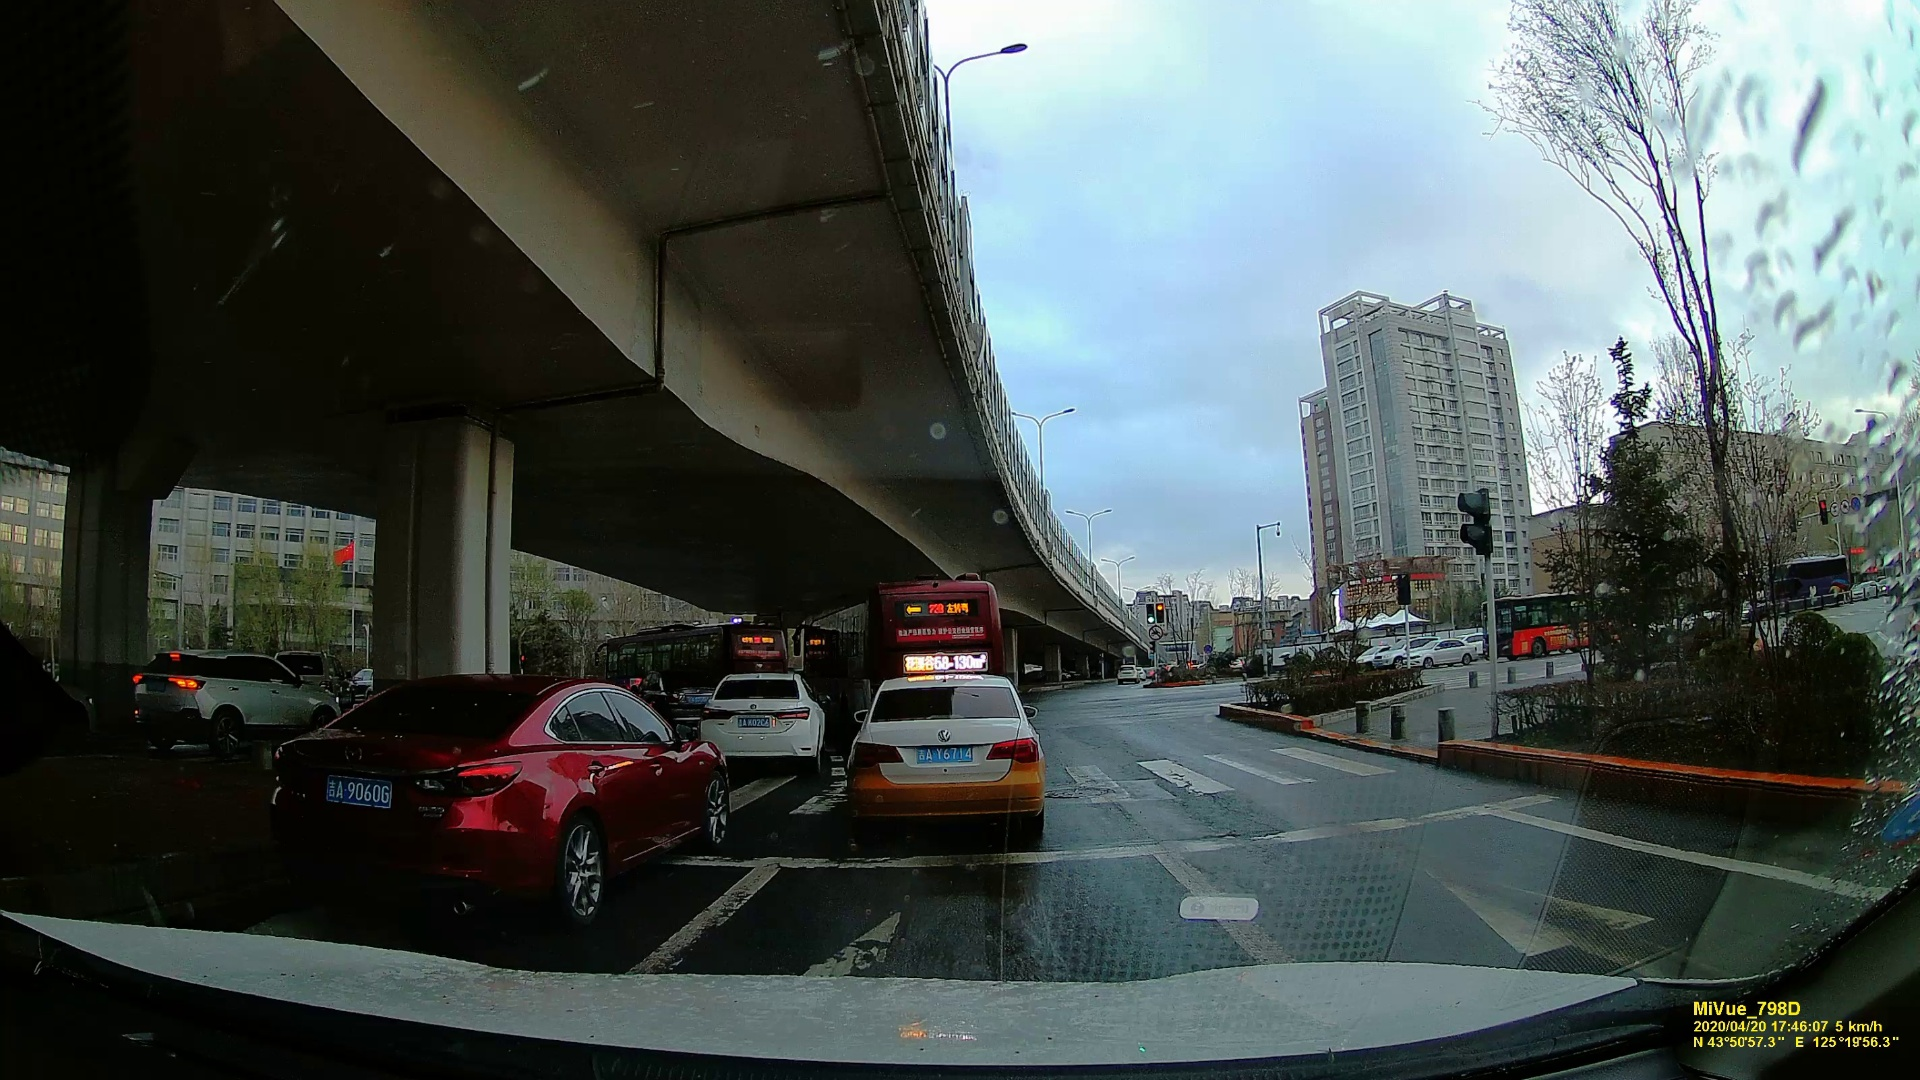bus: (866, 580, 1004, 680), (1481, 595, 1592, 661), (1768, 558, 1851, 600)
traffic_sign: (1458, 487, 1497, 556), (1145, 603, 1155, 625), (1156, 603, 1164, 624)
vehicle: (284, 665, 732, 923), (852, 673, 1054, 827), (123, 644, 342, 742), (690, 673, 825, 770), (1117, 665, 1137, 684)
